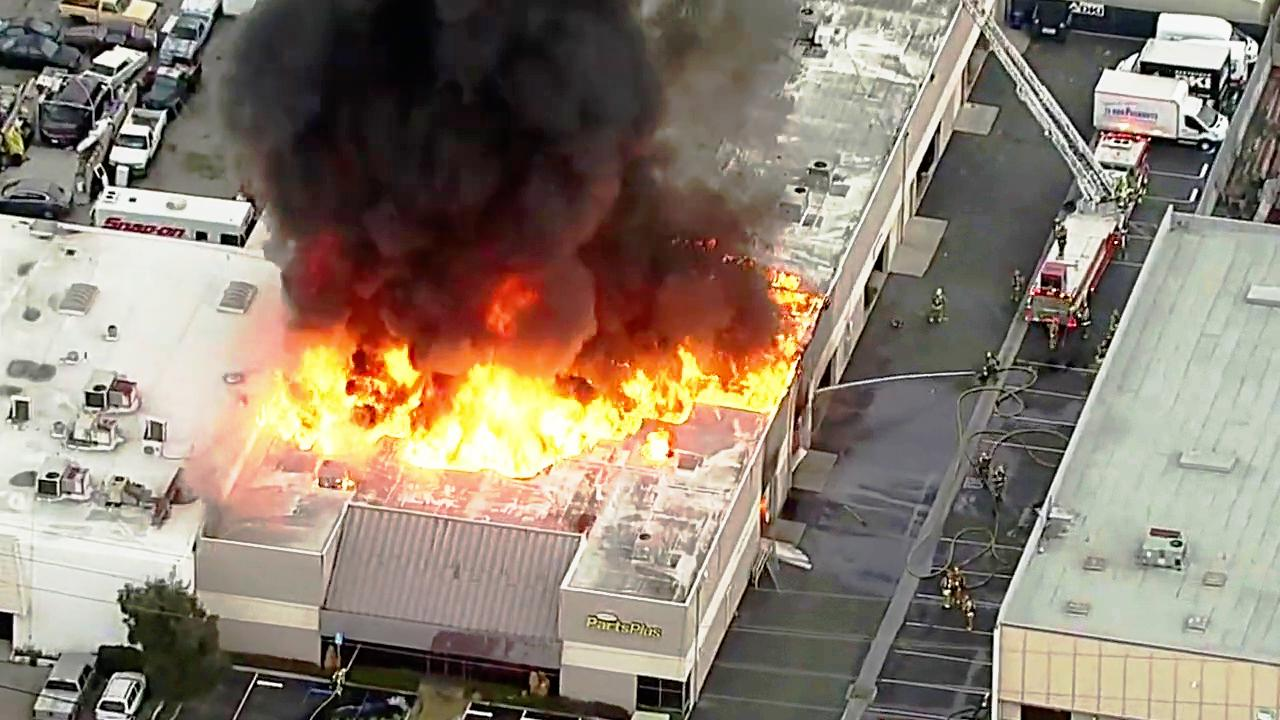fire: (415, 347, 560, 484), (247, 349, 397, 460), (561, 337, 710, 438), (718, 285, 807, 415)
smoke: (334, 0, 634, 322), (245, 12, 761, 190)
